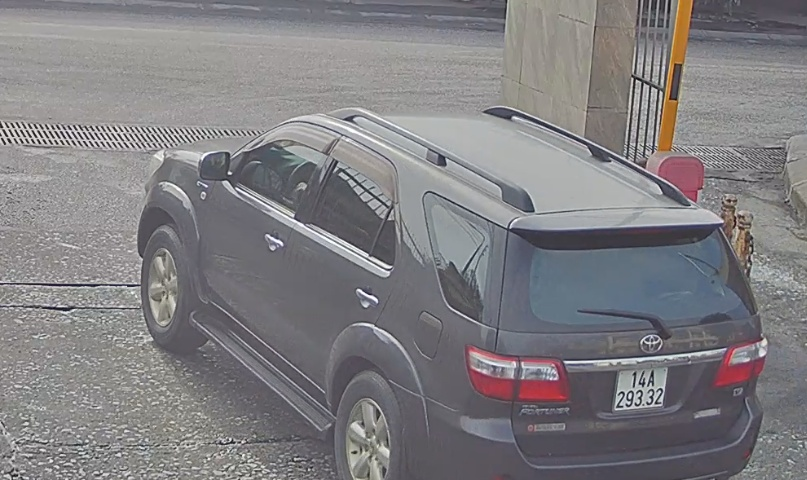vehicle plate: (608, 358, 673, 415)
